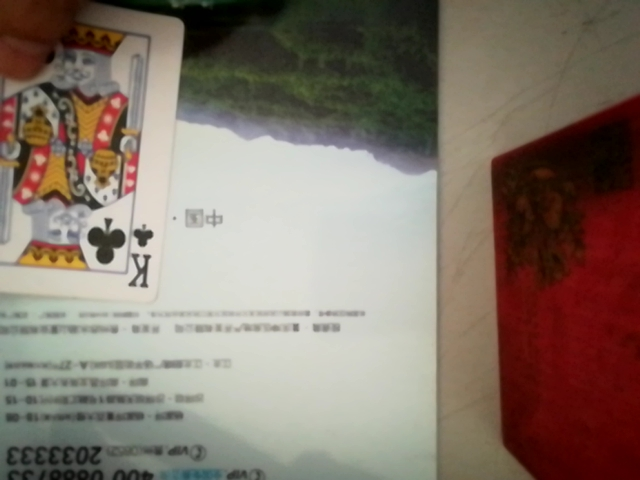mh k: (0, 5, 184, 312)
